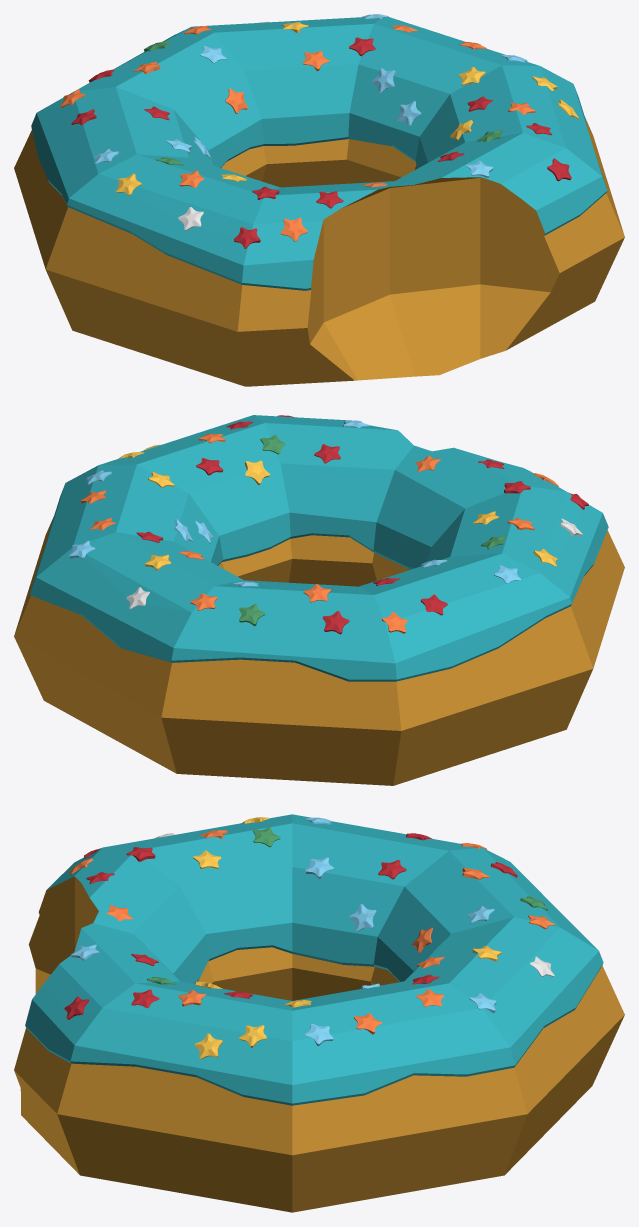
The model's file is DonutState1.fbx.
3 views of the same model, one above another, from view 1: azimuth 30°, elevation 25°; view 2: azimuth 150°, elevation 25°; view 3: azimuth 270°, elevation 25° (orthographic). The views are drawn at different scales.
Parts seen in each view (by area): view 1: DonutState1; view 2: DonutState1; view 3: DonutState1.
Part boxes in pixels (x1,y1,x2,y2): DonutState1: (14,14,624,386); DonutState1: (14,415,624,785); DonutState1: (14,814,624,1212).
Bounding box in the file's own units: 120 × 40.23 × 110.
